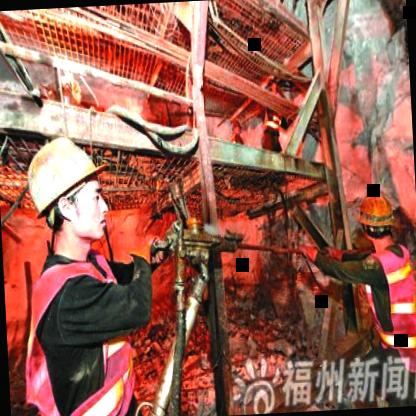helmet: (19, 125, 116, 254), (356, 186, 394, 247)
